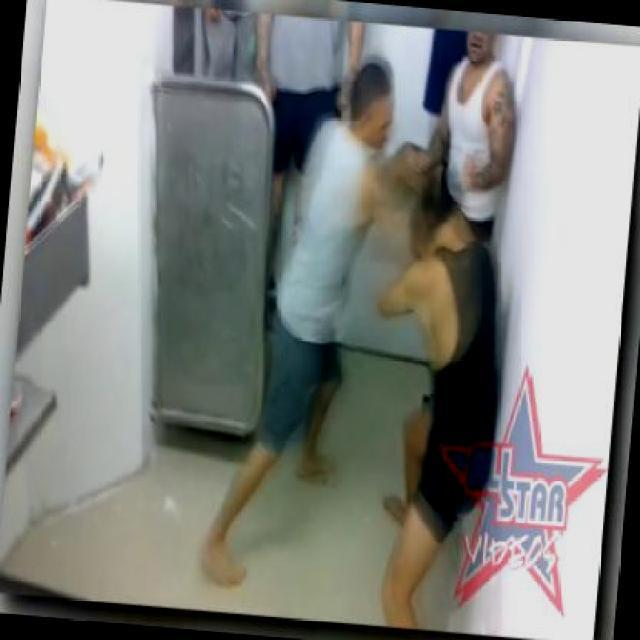fight: (250, 51, 492, 584)
